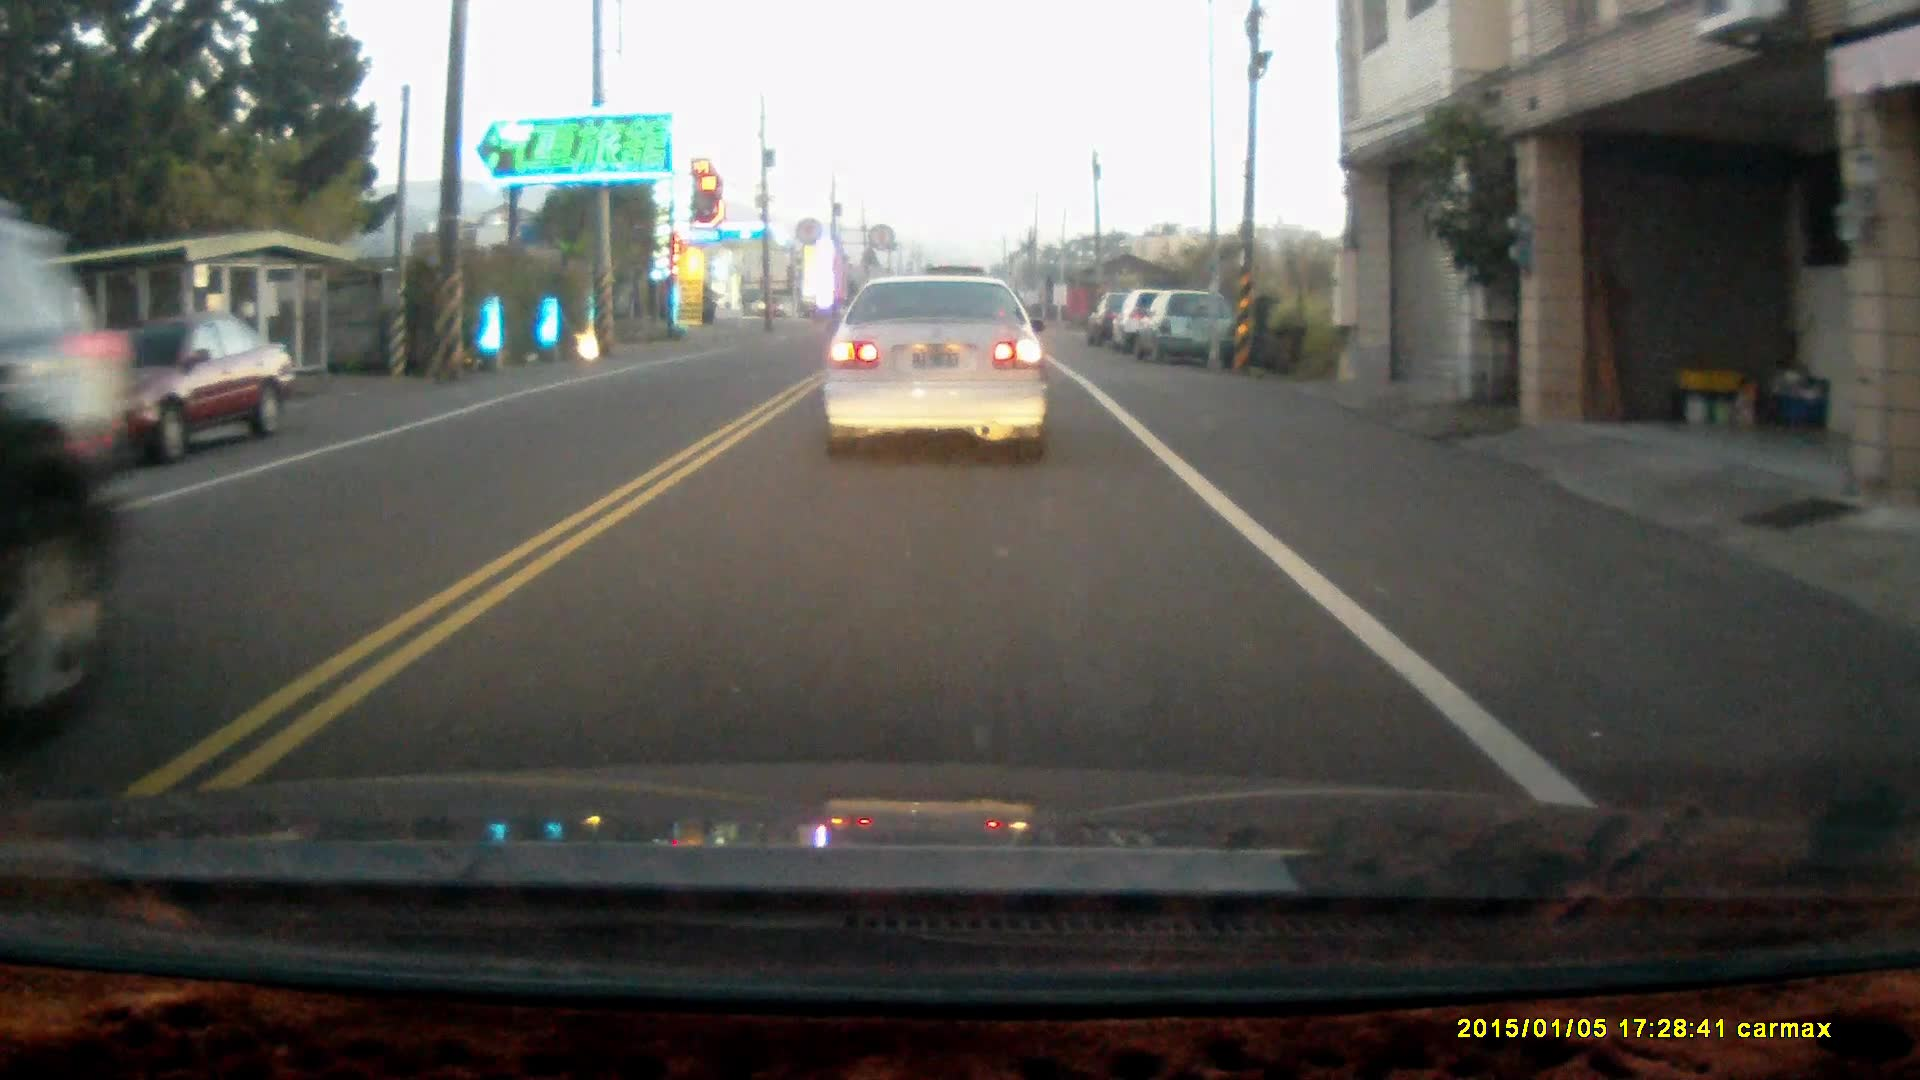vehicle: (819, 272, 1048, 462), (1131, 291, 1234, 365), (1116, 293, 1200, 357)
